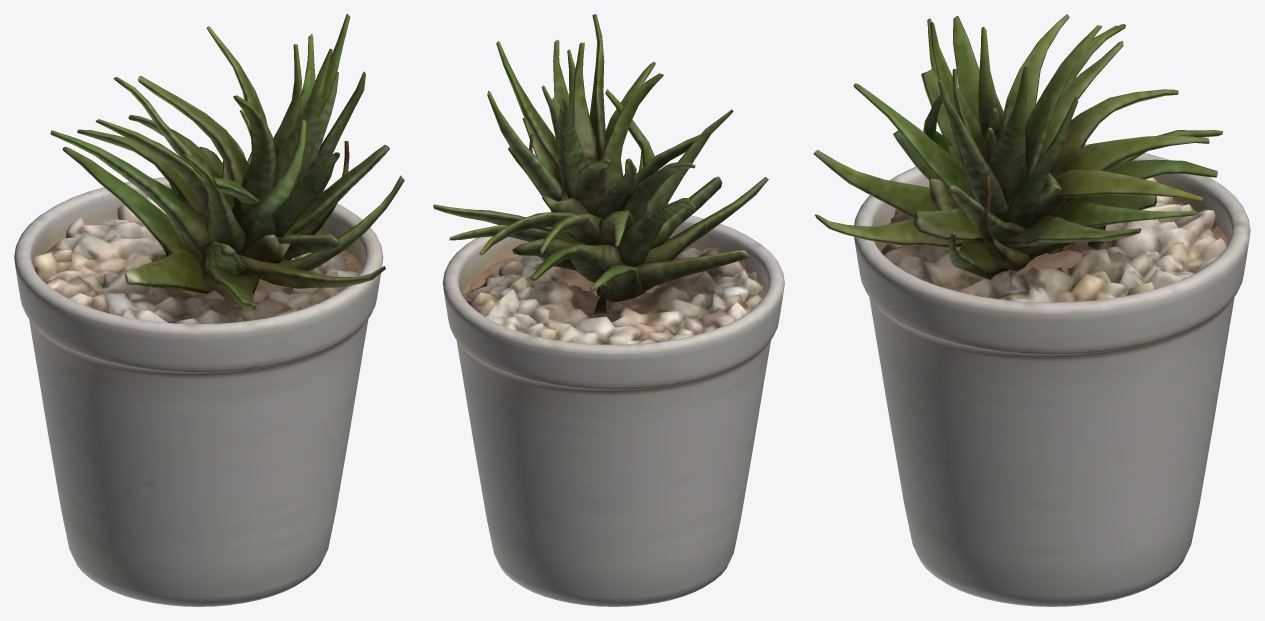
File: potted_plant_04.glb
The picture shows the model from 3 angles, left to right: view 1: azimuth 30°, elevation 25°; view 2: azimuth 150°, elevation 25°; view 3: azimuth 270°, elevation 25°; orthographic projection. The views are drawn at different scales.
Visible parts, largest first — view 1: potted_plant_04_pot, potted_plant_04_plant, potted_plant_04_ground, potted_plant_04_dirt; view 2: potted_plant_04_pot, potted_plant_04_plant, potted_plant_04_ground, potted_plant_04_dirt; view 3: potted_plant_04_pot, potted_plant_04_plant, potted_plant_04_ground, potted_plant_04_dirt.
Part boxes in pixels (x1=…): potted_plant_04_pot: x1=14, y1=177, x2=383, y2=606; potted_plant_04_plant: x1=50, y1=14, x2=404, y2=311; potted_plant_04_ground: x1=34, y1=196, x2=357, y2=323; potted_plant_04_dirt: x1=34, y1=238, x2=362, y2=307; potted_plant_04_pot: x1=442, y1=215, x2=784, y2=606; potted_plant_04_plant: x1=433, y1=14, x2=768, y2=314; potted_plant_04_ground: x1=463, y1=247, x2=765, y2=344; potted_plant_04_dirt: x1=462, y1=247, x2=765, y2=306; potted_plant_04_pot: x1=854, y1=144, x2=1250, y2=606; potted_plant_04_plant: x1=813, y1=14, x2=1222, y2=279; potted_plant_04_ground: x1=881, y1=177, x2=1227, y2=302; potted_plant_04_dirt: x1=875, y1=200, x2=1228, y2=297.
Size of the model in its own units: 0.1679 by 0.2675 by 0.1848.
1 material, 1 textured.
